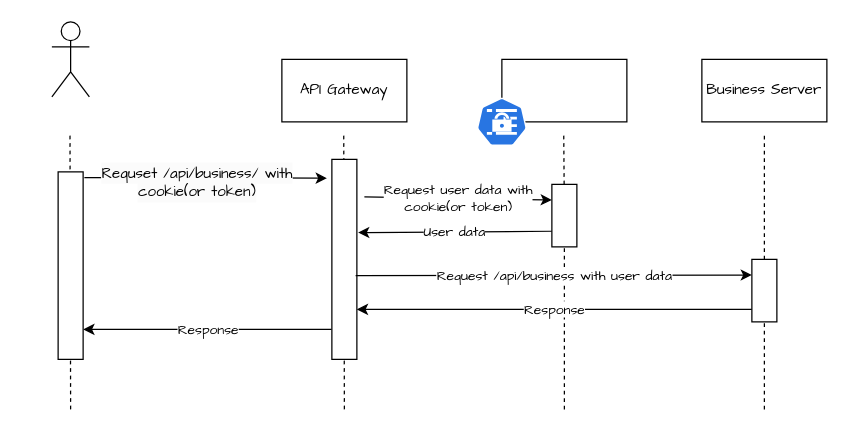
Image size: 849x433. Some labels were removed from this diagram. Here are the shapes that lost their labels. From the top down, the box of each, then its label:
(51, 21, 89, 97): User or Client
(501, 58, 627, 122): User Server
